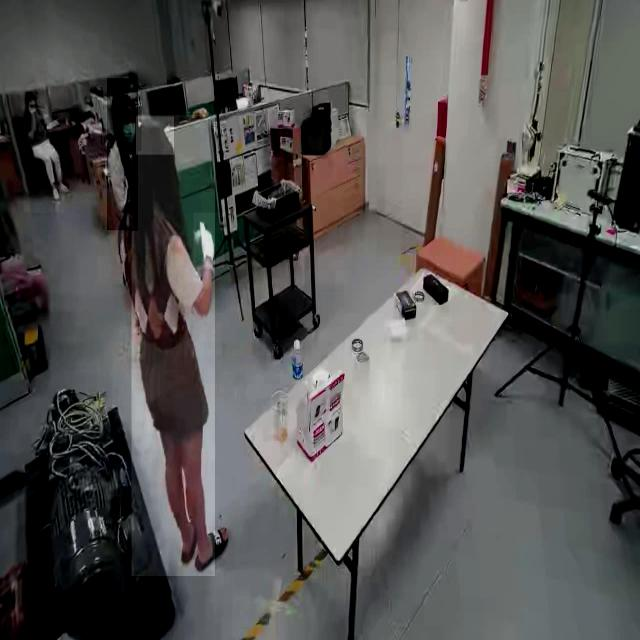face_mask: (118, 109, 142, 151)
hand_glove: (194, 212, 224, 270)
head_nohelmet: (136, 116, 174, 156), (114, 92, 136, 112), (25, 92, 37, 100)
person: (131, 115, 215, 577), (23, 88, 63, 213), (106, 78, 138, 231)
